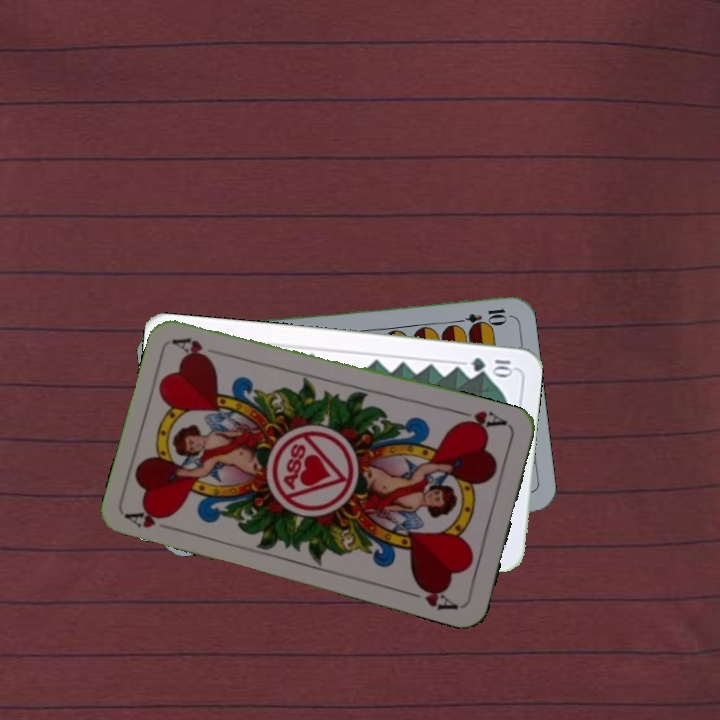E10: (450, 303, 509, 328)
G10: (466, 353, 516, 378)
HA: (123, 503, 182, 534), (452, 406, 512, 434)
